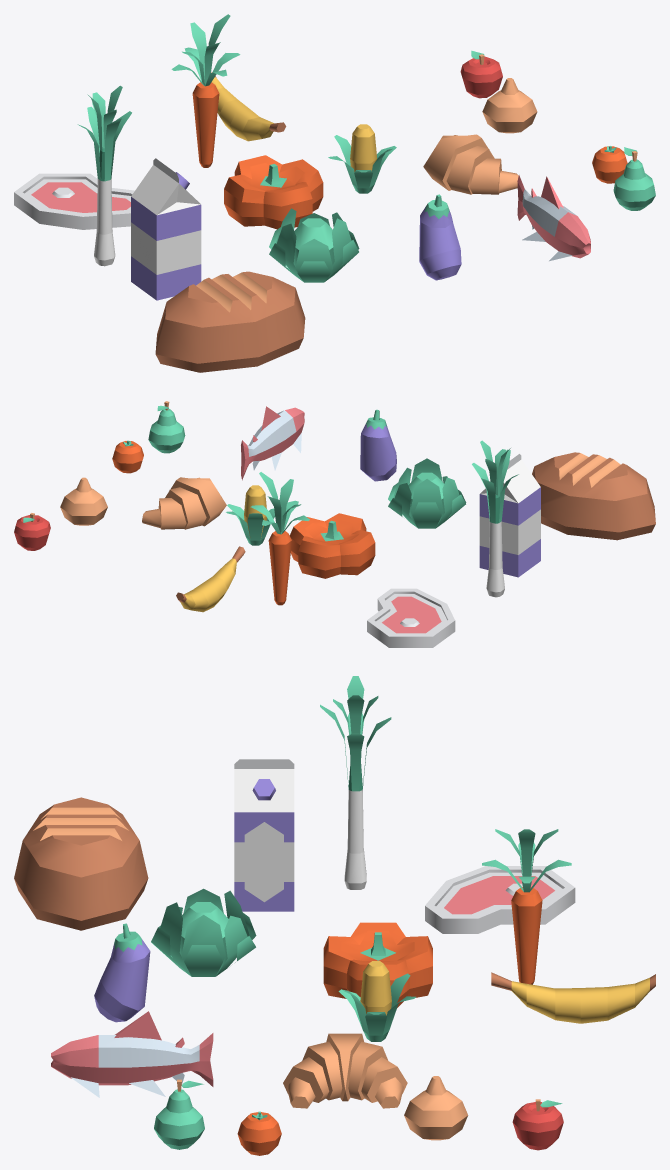
The model's file is foods.glb.
3 views of the same model, one above another, from view 1: azimuth 30°, elevation 25°; view 2: azimuth 150°, elevation 25°; view 3: azimuth 270°, elevation 25° (orthographic). The views are drawn at different scales.
Visible parts, largest first — view 1: loafRound, carton, pumpkin, meatRaw, cabbage, croissant, leek, carrot, fish, eggplant, corn, onion (+4 smaller); view 2: loafRound, carton, pumpkin, meatRaw, cabbage, croissant, leek, carrot, fish, eggplant, banana, onion (+4 smaller); view 3: loafRound, carton, fish, croissant, meatRaw, cabbage, pumpkin, banana, leek, carrot, eggplant, corn (+4 smaller).
Part boxes in pixels (bbox=[...]): loafRound: bbox=[155, 271, 305, 372]; carton: bbox=[131, 158, 201, 300]; pumpkin: bbox=[224, 155, 323, 229]; meatRaw: bbox=[14, 173, 134, 229]; cabbage: bbox=[269, 208, 359, 282]; croissant: bbox=[423, 134, 518, 194]; leek: bbox=[77, 85, 131, 266]; carrot: bbox=[171, 14, 240, 167]; fish: bbox=[517, 175, 590, 261]; eggplant: bbox=[419, 194, 461, 280]; corn: bbox=[328, 124, 396, 193]; onion: bbox=[482, 78, 537, 133]; loafRound: bbox=[532, 452, 655, 540]; carton: bbox=[479, 454, 540, 577]; pumpkin: bbox=[289, 513, 375, 578]; meatRaw: bbox=[367, 588, 455, 647]; cabbage: bbox=[388, 458, 466, 528]; croissant: bbox=[142, 477, 226, 529]; leek: bbox=[472, 440, 518, 597]; carrot: bbox=[250, 472, 309, 605]; fish: bbox=[241, 406, 304, 480]; eggplant: bbox=[360, 409, 396, 481]; banana: bbox=[176, 546, 245, 612]; onion: bbox=[60, 477, 107, 525]; loafRound: bbox=[14, 797, 148, 930]; carton: bbox=[234, 759, 294, 911]; fish: bbox=[51, 1011, 213, 1097]; croissant: bbox=[283, 1033, 407, 1108]; meatRaw: bbox=[425, 866, 575, 933]; cabbage: bbox=[151, 888, 256, 976]; pumpkin: bbox=[323, 922, 432, 1007]; banana: bbox=[491, 972, 655, 1023]; leek: bbox=[320, 676, 391, 889]; carrot: bbox=[482, 829, 571, 984]; eggplant: bbox=[94, 923, 150, 1022]; corn: bbox=[338, 961, 415, 1041].
Bounding box in the file's own units: 2.82 × 0.8474 × 2.46.
